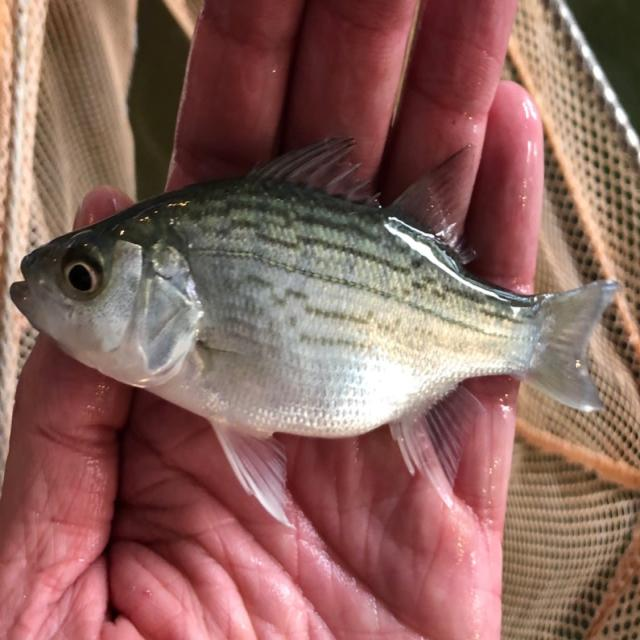Bass - Striped: (10, 138, 618, 523)
